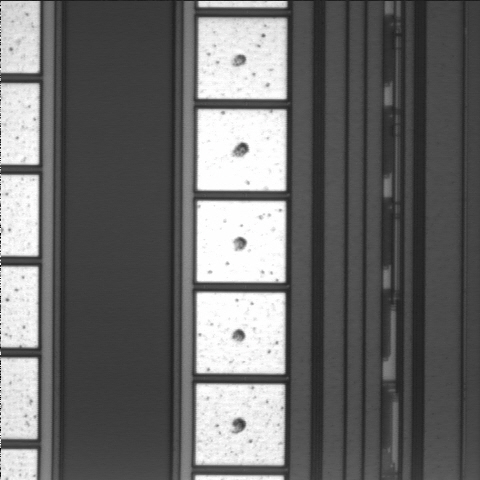pad: (197, 109, 286, 191), (197, 201, 286, 283), (196, 292, 285, 374), (198, 18, 287, 99), (196, 384, 285, 465)
